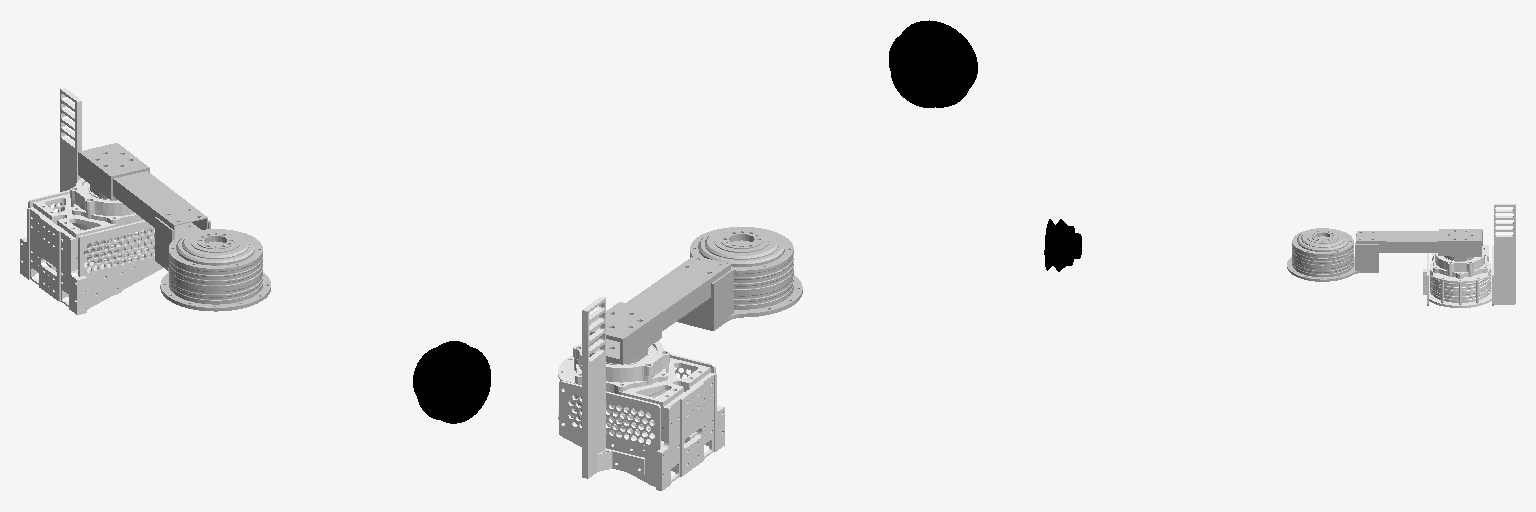
URDF robot description (engineering_robot):
<?xml version="1.0" encoding="utf-8"?>
<!-- This URDF was automatically created by SolidWorks to URDF Exporter! Originally created by [author] ([email redacted]) 
     Commit Version: 1.6.0-4-g7f85cfe  Build Version: 1.6.7995.38578
     For more information, please see http://wiki.ros.org/sw_urdf_exporter -->
<robot
  name="engineering_robot">
  <link
    name="robot_base">
    <inertial>
      <origin
        xyz="0.0061850585644897 0.053228125930199 0.231928941982038"
        rpy="0 0 0" />
      <mass
        value="22.1862077008472" />
      <inertia
        ixx="0.0861221344984884"
        ixy="0.000226077590199201"
        ixz="0.00027171304963239"
        iyy="0.122067629093959"
        iyz="-0.000145945046806605"
        izz="0.137841741360346" />
    </inertial>
    <visual>
      <origin
        xyz="0 0 0"
        rpy="0 0 0" />
      <geometry>
        <mesh
          filename="package://engineering_robot/meshes/robot_base.STL" />
      </geometry>
      <material
        name="">
        <color
          rgba="1 1 1 1" />
      </material>
    </visual>
    <collision>
      <origin
        xyz="0 0 0"
        rpy="0 0 0" />
      <geometry>
        <mesh
          filename="package://engineering_robot/meshes/robot_base.STL" />
      </geometry>
    </collision>
  </link>
  <link
    name="J1_pris">
    <inertial>
      <origin
        xyz="0.0194665902809515 -0.0023335177595844 -0.0425273882163134"
        rpy="0 0 0" />
      <mass
        value="0.91288340947747" />
      <inertia
        ixx="0.000819887066916551"
        ixy="-8.83731445410227E-07"
        ixz="2.59007936258004E-05"
        iyy="0.000854066025906899"
        iyz="2.54241980276259E-06"
        izz="0.00113713465380161" />
    </inertial>
    <visual>
      <origin
        xyz="0 0 0"
        rpy="0 0 0" />
      <geometry>
        <mesh
          filename="package://engineering_robot/meshes/J1_pris.STL" />
      </geometry>
      <material
        name="">
        <color
          rgba="1 1 1 1" />
      </material>
    </visual>
    <collision>
      <origin
        xyz="0 0 0"
        rpy="0 0 0" />
      <geometry>
        <mesh
          filename="package://engineering_robot/meshes/J1_pris.STL" />
      </geometry>
    </collision>
  </link>
  <joint
    name="J1_pris_"
    type="prismatic">
    <origin
      xyz="-0.046 -0.1815 0.208"
      rpy="0 0 3.1416" />
    <parent
      link="robot_base" />
    <child
      link="J1_pris" />
    <axis
      xyz="0 0 -1" />
    <limit
      lower="-0.4"
      upper="0"
      effort="0"
      velocity="0.0225" />
  </joint>
  <link
    name="J1_rotate">
    <inertial>
      <origin
        xyz="0.00344845225870874 0.167124673552664 0.0104930612944998"
        rpy="0 0 0" />
      <mass
        value="0.989907036021585" />
      <inertia
        ixx="0.000937103570215255"
        ixy="-8.18023004581994E-06"
        ixz="2.03668858594027E-07"
        iyy="0.000540431879576359"
        iyz="9.08713227453938E-06"
        izz="0.00130847936953381" />
    </inertial>
    <visual>
      <origin
        xyz="0 0 0"
        rpy="0 0 0" />
      <geometry>
        <mesh
          filename="package://engineering_robot/meshes/J1_rotate.STL" />
      </geometry>
      <material
        name="">
        <color
          rgba="0.847058823529412 0.847058823529412 0.847058823529412 1" />
      </material>
    </visual>
    <collision>
      <origin
        xyz="0 0 0"
        rpy="0 0 0" />
      <geometry>
        <mesh
          filename="package://engineering_robot/meshes/J1_rotate.STL" />
      </geometry>
    </collision>
  </link>
  <joint
    name="J1_rotate_"
    type="revolute">
    <origin
      xyz="0 0 0"
      rpy="0 0 0" />
    <parent
      link="J1_pris" />
    <child
      link="J1_rotate" />
    <axis
      xyz="0 0 -1" />
    <limit
      lower="-3.14"
      upper="3.14"
      effort="0"
      velocity="3.0" />
  </joint>
  <link
    name="J2">
    <inertial>
      <origin
        xyz="-0.00479104788022719 0.0405042727022246 0.0474416018256969"
        rpy="0 0 0" />
      <mass
        value="0.47390104289524" />
      <inertia
        ixx="0.000341030410756508"
        ixy="-8.73081010936961E-07"
        ixz="2.06944368423626E-07"
        iyy="0.000233623673436517"
        iyz="-5.68139857721653E-06"
        izz="0.00032661740738155" />
    </inertial>
    <visual>
      <origin
        xyz="0 0 0"
        rpy="0 0 0" />
      <geometry>
        <mesh
          filename="package://engineering_robot/meshes/J2.STL" />
      </geometry>
      <material
        name="">
        <color
          rgba="0.898039215686275 0.917647058823529 0.929411764705882 1" />
      </material>
    </visual>
    <collision>
      <origin
        xyz="0 0 0"
        rpy="0 0 0" />
      <geometry>
        <mesh
          filename="package://engineering_robot/meshes/J2.STL" />
      </geometry>
    </collision>
  </link>
  <joint
    name="J2_"
    type="revolute">
    <origin
      xyz="0.004527 0.21888 0.043"
      rpy="0 0 -0.020679" />
    <parent
      link="J1_rotate" />
    <child
      link="J2" />
    <axis
      xyz="0 0 -1" />
    <limit
      lower="-3.14"
      upper="3.14"
      effort="0"
      velocity="3.0" />
  </joint>
  <link
    name="J3">
    <inertial>
      <origin
        xyz="-0.00666615456430499 0.0695663776012048 -0.0166594023425924"
        rpy="0 0 0" />
      <mass
        value="0.451960600792109" />
      <inertia
        ixx="0.00145013229782576"
        ixy="5.31382679486246E-07"
        ixz="-2.97314428263501E-07"
        iyy="0.000495105781411283"
        iyz="0.000451966378809908"
        izz="0.00097919283528486" />
    </inertial>
    <visual>
      <origin
        xyz="0 0 0"
        rpy="0 0 0" />
      <geometry>
        <mesh
          filename="package://engineering_robot/meshes/J3.STL" />
      </geometry>
      <material
        name="">
        <color
          rgba="0.898039215686275 0.917647058823529 0.929411764705882 1" />
      </material>
    </visual>
    <collision>
      <origin
        xyz="0 0 0"
        rpy="0 0 0" />
      <geometry>
        <mesh
          filename="package://engineering_robot/meshes/J3.STL" />
      </geometry>
    </collision>
  </link>
  <joint
    name="J3_"
    type="revolute">
    <origin
      xyz="-0.014396 0.11107 0.059"
      rpy="0 -0.12124 0.12889" />
    <parent
      link="J2" />
    <child
      link="J3" />
    <axis
      xyz="0 -1 0" />
    <limit
      lower="-3.14"
      upper="3.14"
      effort="0"
      velocity="3.0" />
  </joint>
  <link
    name="J4_x">
    <inertial>
      <origin
        xyz="-0.00125840050985948 0.0016799251887325 0.000477676818880196"
        rpy="0 0 0" />
      <mass
        value="0.245833034470928" />
      <inertia
        ixx="0.000104922611477663"
        ixy="-4.99082449421971E-07"
        ixz="-1.85736980271737E-08"
        iyy="6.64077134638348E-05"
        iyz="-1.59394144342606E-07"
        izz="0.000112771537500298" />
    </inertial>
    <visual>
      <origin
        xyz="0 0 0"
        rpy="0 0 0" />
      <geometry>
        <mesh
          filename="package://engineering_robot/meshes/J4_x.STL" />
      </geometry>
      <material
        name="">
        <color
          rgba="0.898039215686275 0.917647058823529 0.929411764705882 1" />
      </material>
    </visual>
    <collision>
      <origin
        xyz="0 0 0"
        rpy="0 0 0" />
      <geometry>
        <mesh
          filename="package://engineering_robot/meshes/J4_x.STL" />
      </geometry>
    </collision>
  </link>
  <joint
    name="J4_x_"
    type="revolute">
    <origin
      xyz="-0.0002 0.18972 -0.085"
      rpy="0.11366 0 0" />
    <parent
      link="J3" />
    <child
      link="J4_x" />
    <axis
      xyz="-1 0 0" />
    <limit
      lower="-3.14"
      upper="3.14"
      effort="0"
      velocity="3.0" />
  </joint>
  <link
    name="J4_y">
    <inertial>
      <origin
        xyz="-0.00125840050985948 0.0016799251887325 0.000477676818880141"
        rpy="0 0 0" />
      <mass
        value="0.245833034470928" />
      <inertia
        ixx="0.000104922611477663"
        ixy="-4.99082449421973E-07"
        ixz="-1.85736980271726E-08"
        iyy="6.64077134638348E-05"
        iyz="-1.59394144342605E-07"
        izz="0.000112771537500298" />
    </inertial>
    <visual>
      <origin
        xyz="0 0 0"
        rpy="0 0 0" />
      <geometry>
        <mesh
          filename="package://engineering_robot/meshes/J4_y.STL" />
      </geometry>
      <material
        name="">
        <color
          rgba="1 1 1 1" />
      </material>
    </visual>
    <collision>
      <origin
        xyz="0 0 0"
        rpy="0 0 0" />
      <geometry>
        <mesh
          filename="package://engineering_robot/meshes/J4_y.STL" />
      </geometry>
    </collision>
  </link>
  <joint
    name="J4_y_"
    type="revolute">
    <origin
      xyz="0 0 0"
      rpy="0 0 0" />
    <parent
      link="J4_x" />
    <child
      link="J4_y" />
    <axis
      xyz="0 -1 0" />
    <limit
      lower="-1.57"
      upper="1.57"
      effort="0"
      velocity="3.0" />
  </joint>
  <link
    name="J5_end">
    <inertial>
      <origin
        xyz="-2.65546112876436E-10 -0.00675708142560449 8.00104427156612E-12"
        rpy="0 0 0" />
      <mass
        value="0.106684158826586" />
      <inertia
        ixx="3.61598059282278E-05"
        ixy="4.95022995034358E-17"
        ixz="4.95084127780013E-07"
        iyy="6.17621391328186E-05"
        iyz="1.04286696465949E-16"
        izz="3.78396197137029E-05" />
    </inertial>
    <visual>
      <origin
        xyz="0 0 0"
        rpy="0 0 0" />
      <geometry>
        <mesh
          filename="package://engineering_robot/meshes/J5_end.STL" />
      </geometry>
      <material
        name="">
        <color
          rgba="0 0 0 1" />
      </material>
    </visual>
    <collision>
      <origin
        xyz="0 0 0"
        rpy="0 0 0" />
      <geometry>
        <mesh
          filename="package://engineering_robot/meshes/J5_end.STL" />
      </geometry>
    </collision>
  </link>
  <joint
    name="J5_end_"
    type="fixed">
    <origin
      xyz="0 0.1105 0"
      rpy="0 0 0" />
    <parent
      link="J4_y" />
    <child
      link="J5_end" />
    <axis
      xyz="0 0 0" />
  </joint>
</robot>

--- What the picture shows (computed from the rendered views, not written in the file) ---
The picture shows the robot from 3 angles, left to right: view 1: azimuth 30°, elevation 25°; view 2: azimuth 150°, elevation 25°; view 3: azimuth 270°, elevation 25°; orthographic projection.
Model engineering_robot with 8 links and 7 joints (5 revolute, 1 prismatic, 1 fixed), rooted at robot_base, posed all joints at 0.
Visible links, largest first — view 1: J1_pris, J1_rotate, J5_end; view 2: J1_pris, J1_rotate, J5_end; view 3: J1_rotate, J1_pris, J5_end.
Link boxes in pixels (x1=…): J1_pris: x1=20, y1=88, x2=163, y2=314; J1_rotate: x1=78, y1=143, x2=270, y2=311; J5_end: x1=413, y1=341, x2=490, y2=423; J1_pris: x1=558, y1=297, x2=724, y2=490; J1_rotate: x1=589, y1=227, x2=802, y2=364; J5_end: x1=889, y1=20, x2=977, y2=107; J1_rotate: x1=1287, y1=228, x2=1482, y2=281; J1_pris: x1=1423, y1=204, x2=1515, y2=307; J5_end: x1=1044, y1=219, x2=1081, y2=271.
Bounding box of the posed robot: 0.1538 × 0.7509 × 0.1845 m (x, y, z).
Meshes: 8 distinct files referenced, 3 mesh visuals loaded (3 binary STL); not drawn: 5 (reference not matched to a file when rendering).